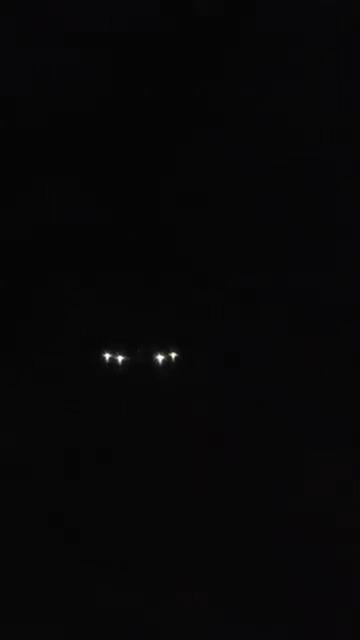Plane: (70, 303, 214, 399)
